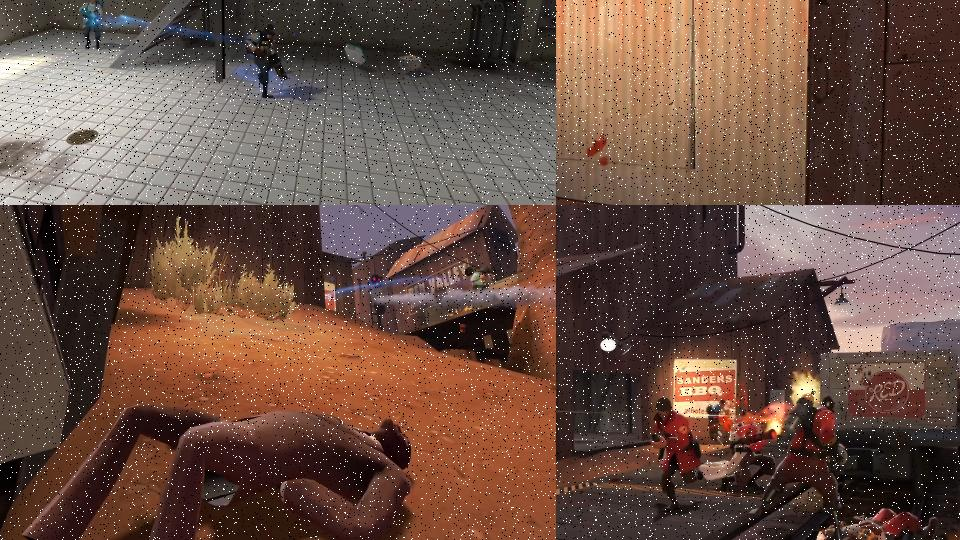Enemy: (0, 398, 418, 540), (748, 389, 849, 540), (698, 410, 778, 494), (648, 397, 705, 514), (238, 19, 297, 107), (814, 507, 938, 540), (75, 0, 115, 54), (464, 262, 502, 298), (706, 399, 729, 445)
